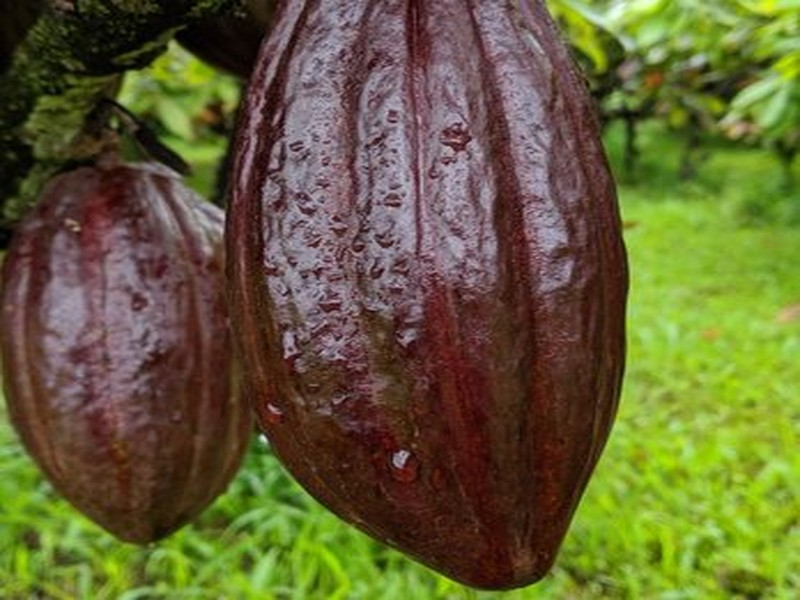Cacaopod: (226, 3, 625, 586)
